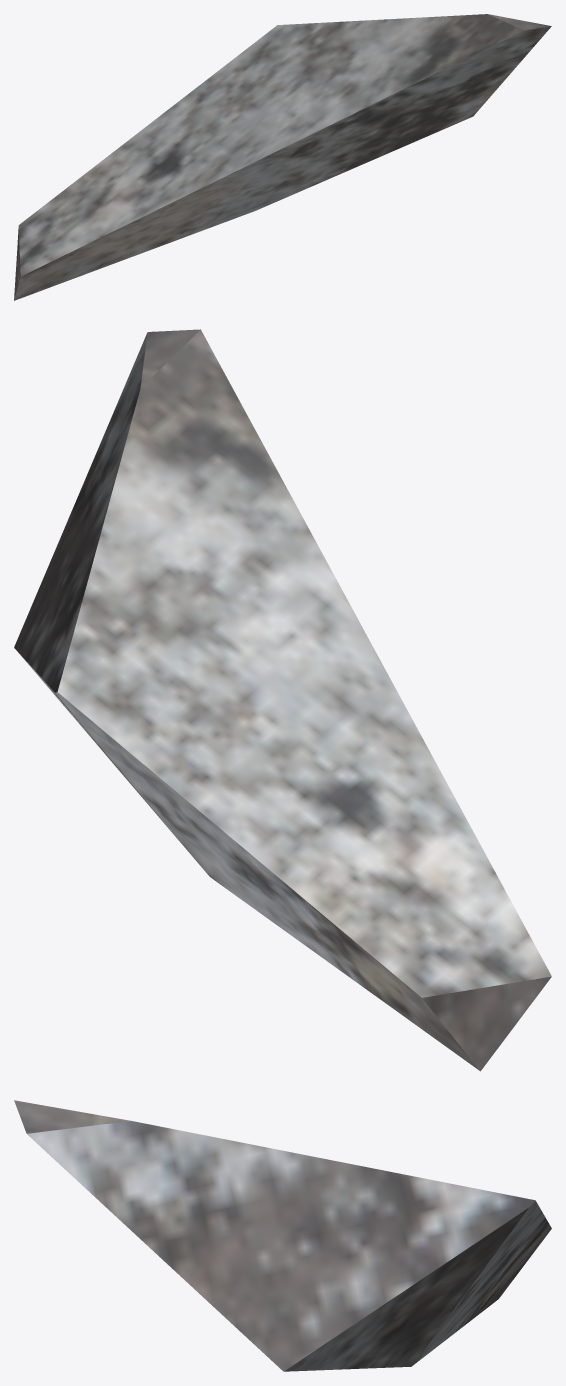
Rendered from Asteroid_Large_001_02_011_03_003.fbx.
The picture shows the model from 3 angles, top to bottom: view 1: azimuth 30°, elevation 25°; view 2: azimuth 150°, elevation 25°; view 3: azimuth 270°, elevation 25°; orthographic projection. The views are drawn at different scales.
Parts seen in each view (by area): view 1: Asteroid_Large_001_02_011_03_003; view 2: Asteroid_Large_001_02_011_03_003; view 3: Asteroid_Large_001_02_011_03_003.
Part boxes in pixels (x1=…): Asteroid_Large_001_02_011_03_003: x1=14, y1=14, x2=551, y2=300; Asteroid_Large_001_02_011_03_003: x1=14, y1=329, x2=551, y2=1071; Asteroid_Large_001_02_011_03_003: x1=14, y1=1100, x2=551, y2=1371.
Bounding box in the file's own units: 3.77 × 2.66 × 2.83.
